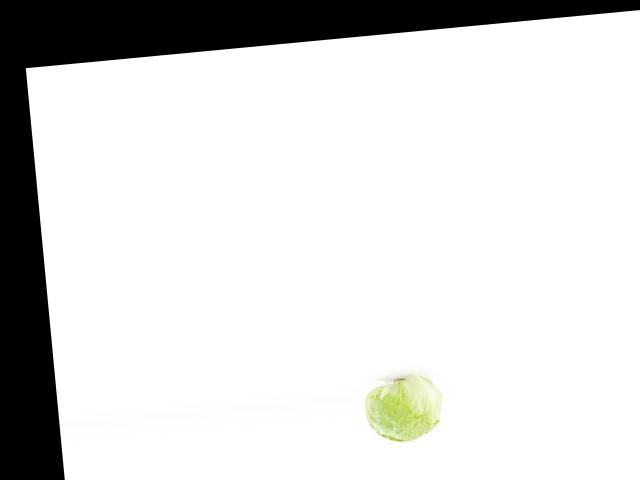lettuce: (353, 377, 447, 448)
